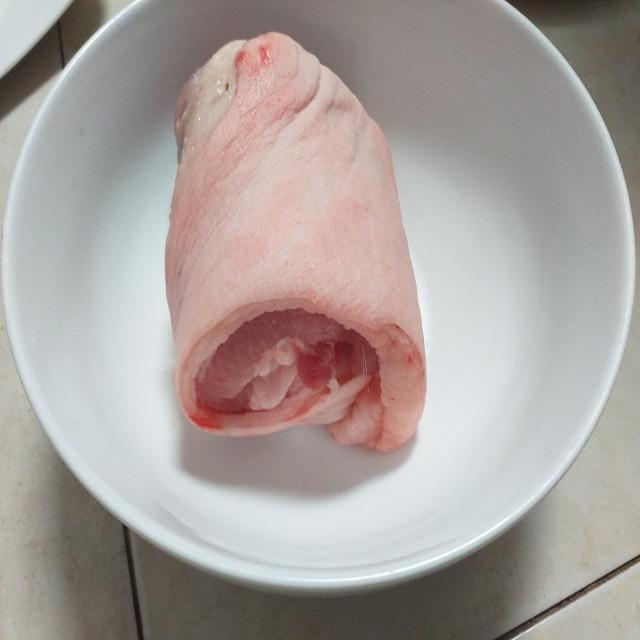chicken: (166, 28, 424, 456)
